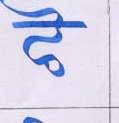u_matra: (0, 0, 67, 20)
